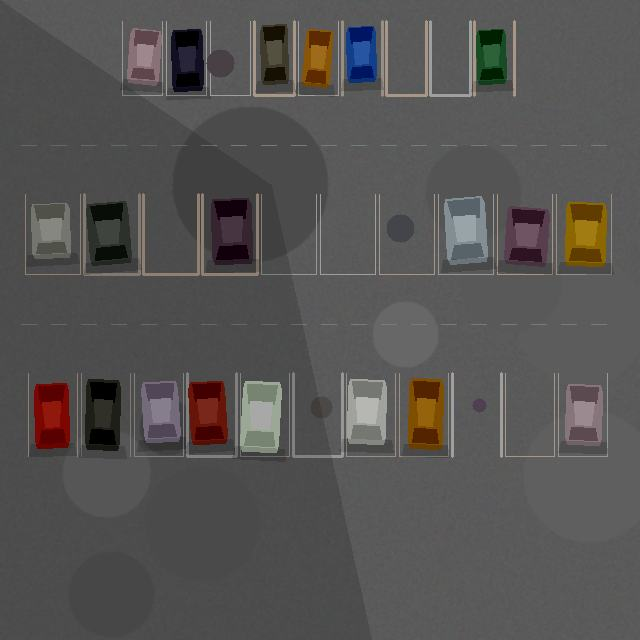space-empty: (143, 194, 198, 274), (261, 194, 316, 274), (320, 194, 375, 274), (379, 194, 434, 274), (293, 373, 342, 456), (452, 373, 501, 456), (505, 373, 554, 456), (210, 21, 250, 95), (386, 21, 426, 95), (430, 21, 470, 95)
space-occupied: (25, 194, 80, 274), (84, 194, 139, 274), (202, 194, 257, 274), (438, 194, 493, 274), (497, 194, 552, 274), (556, 194, 611, 274), (28, 373, 77, 456), (81, 373, 130, 456), (134, 373, 183, 456), (187, 373, 236, 456), (240, 373, 289, 456), (346, 373, 395, 456), (399, 373, 448, 456), (558, 373, 607, 456), (122, 21, 162, 95), (166, 21, 206, 95), (254, 21, 294, 95), (298, 21, 338, 95), (342, 21, 382, 95), (474, 21, 514, 95)
